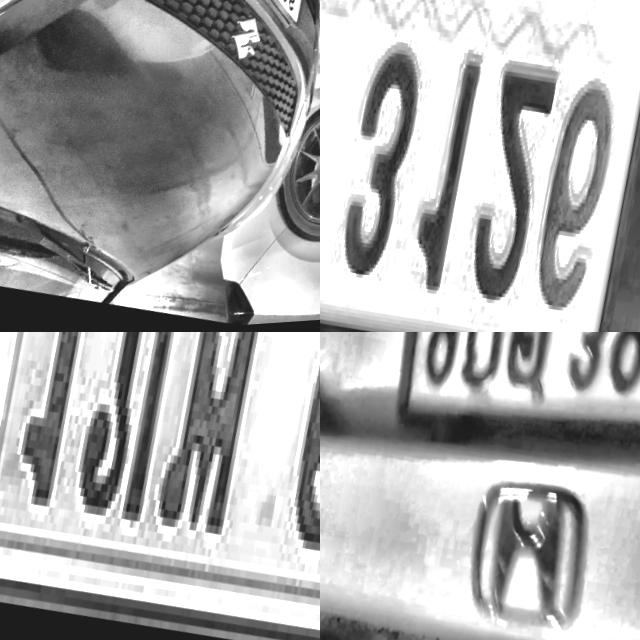license-plate: (320, 0, 640, 332), (0, 332, 320, 640), (405, 332, 640, 431), (211, 0, 320, 39)
